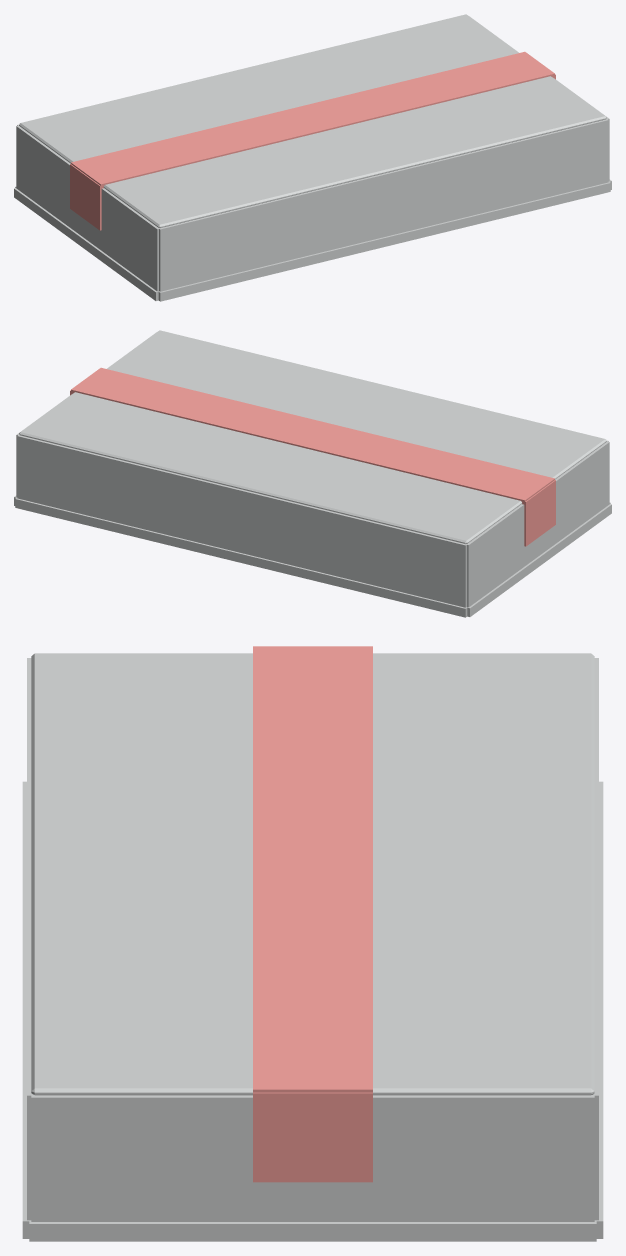
File: tablecloth_rect.glb
3 views of the same model, one above another, from view 1: azimuth 30°, elevation 25°; view 2: azimuth 150°, elevation 25°; view 3: azimuth 270°, elevation 25° (orthographic). The views are drawn at different scales.
Visible parts, largest first — view 1: Tablecloth, Runner; view 2: Tablecloth, Runner; view 3: Tablecloth, Runner.
Boxes of the visible parts, box(x1,y1,x2,y2) form: Tablecloth: box(14, 14, 611, 301); Runner: box(70, 51, 555, 230); Tablecloth: box(14, 330, 611, 617); Runner: box(70, 367, 555, 546); Tablecloth: box(22, 653, 603, 1241); Runner: box(253, 646, 372, 1182).
Bounding box in the file's own units: 0.8779 × 0.1391 × 0.4837.
